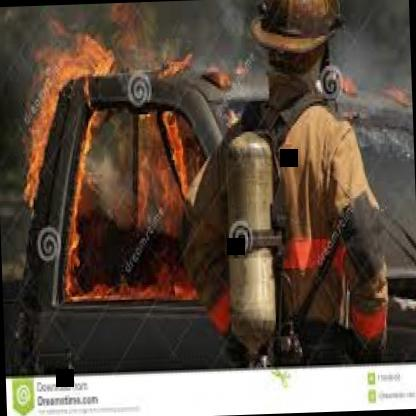fire: (0, 64, 238, 368)
